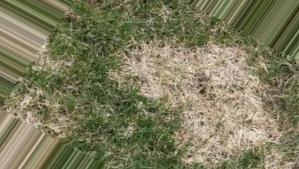patch: (137, 49, 245, 112), (186, 116, 265, 150)
